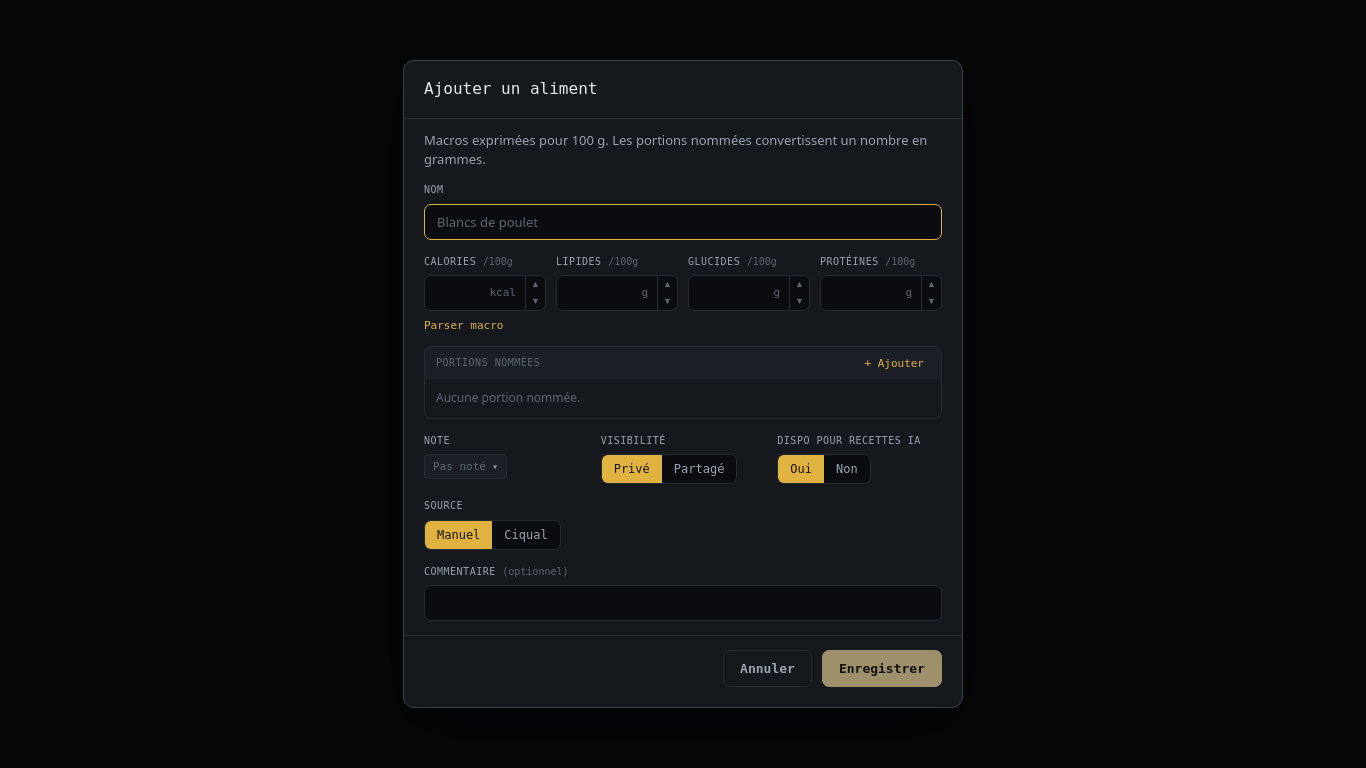
FoodModal — a sub-dialog closes alone (B-300) › keeps the food form open when the macro-parse dialog is dismissed with Escape
The width and height of the screenshot is (1366, 768).
Click the button "Parser macro" at (464, 326), box [424,319,504,332]
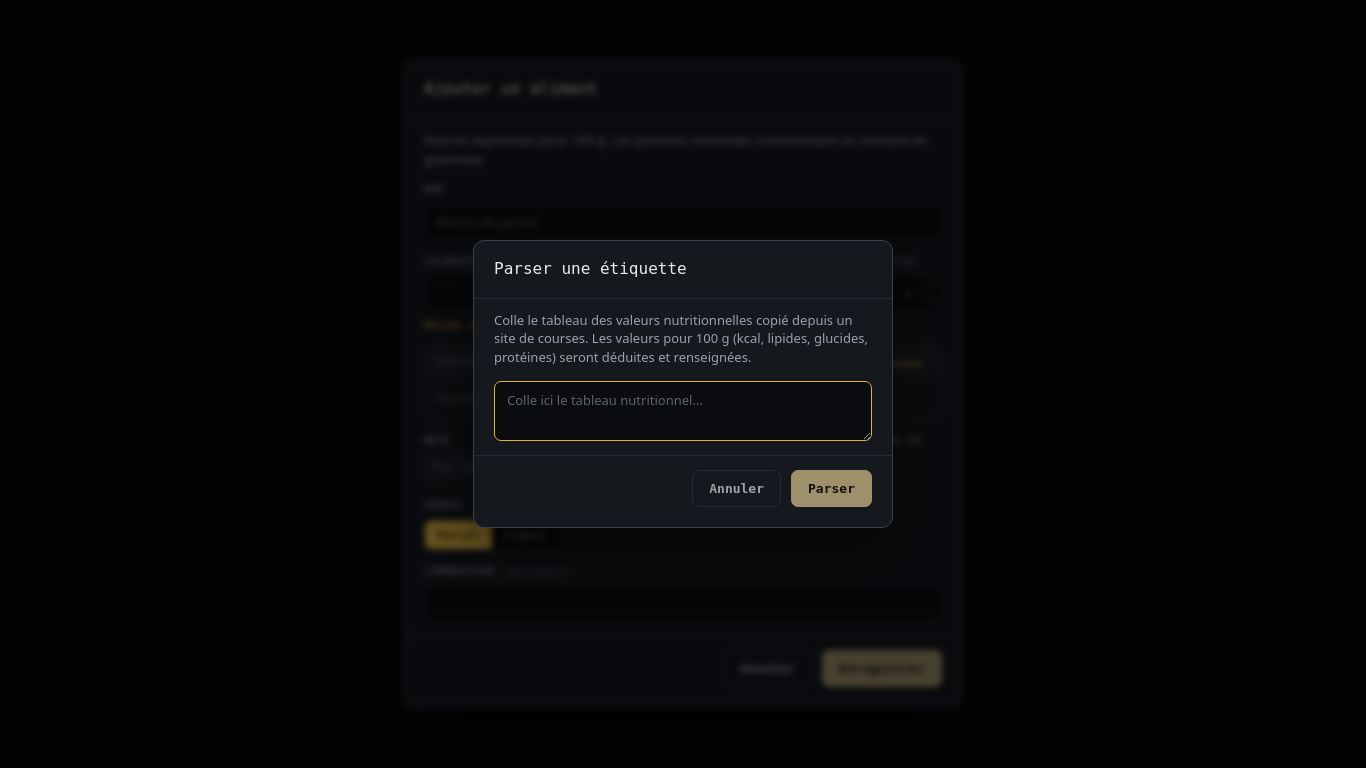
Now the text "Parser une étiquette" is shown, box [474,241,892,299]
Press Escape
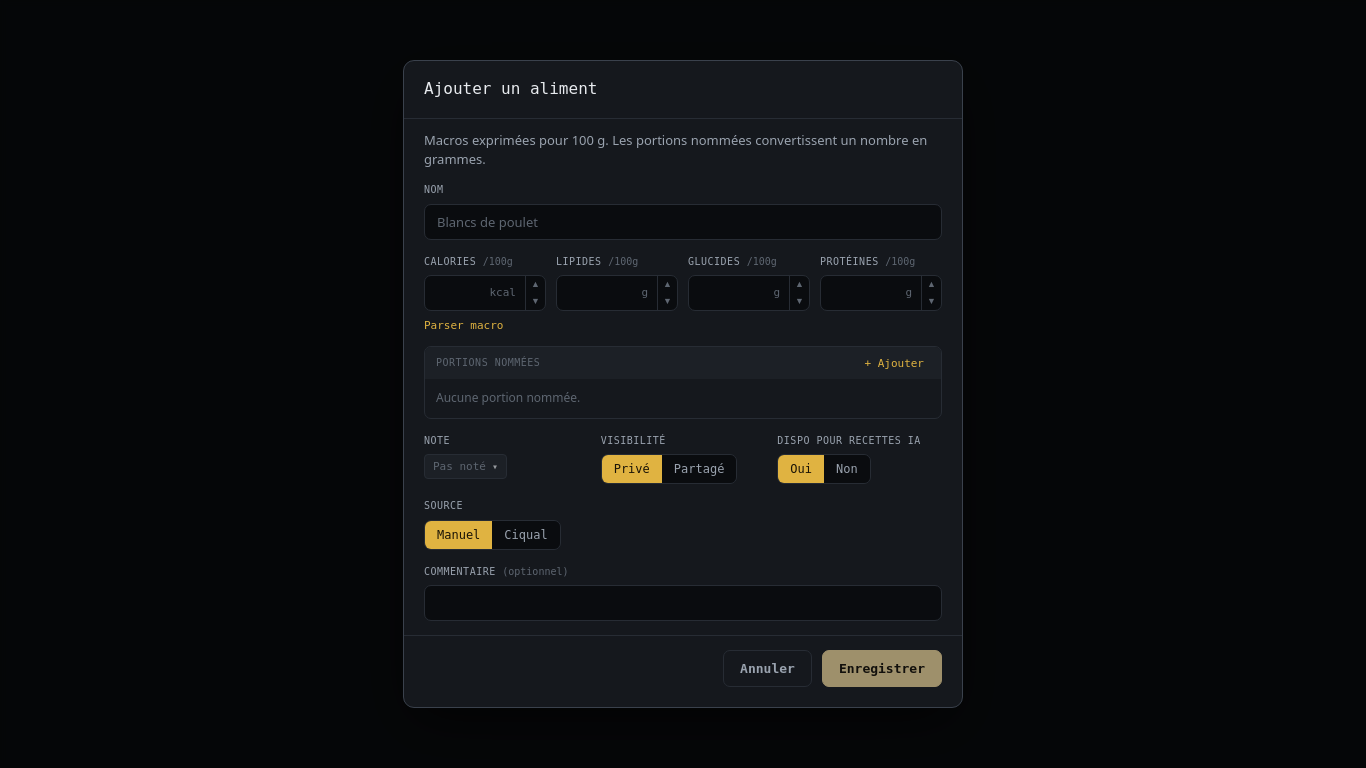
Expected: the text "Ajouter un aliment" is shown, [404,61,962,119]
Now the text "Parser une étiquette" is gone
